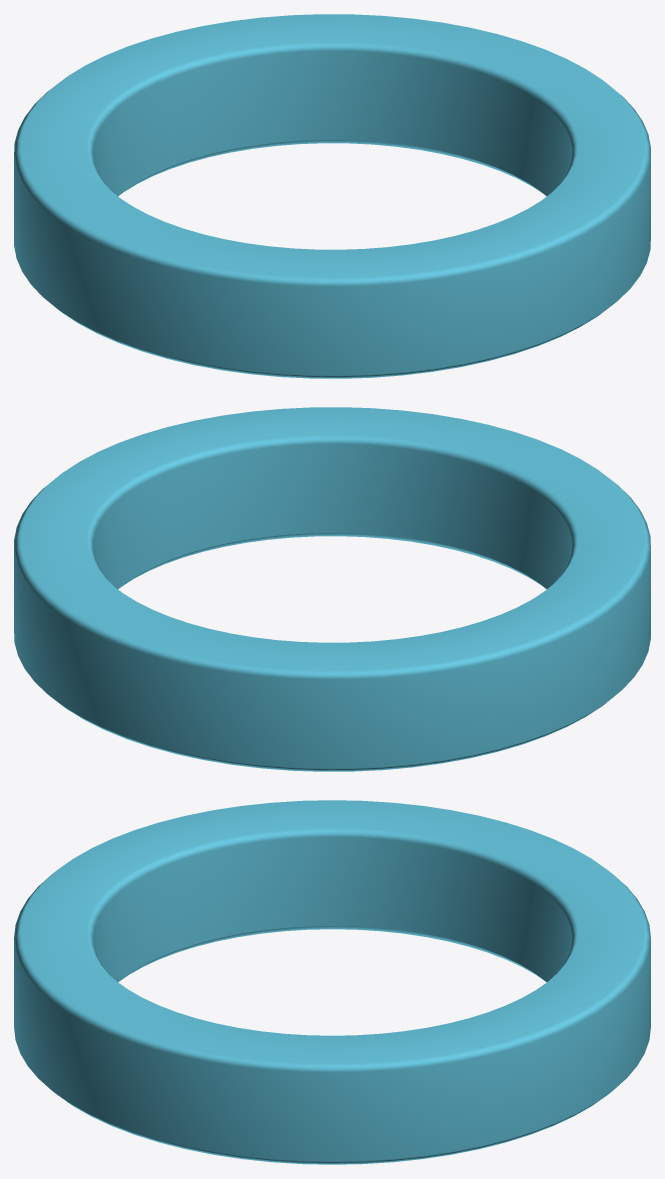
The picture shows the model from 3 angles, top to bottom: view 1: azimuth 30°, elevation 25°; view 2: azimuth 150°, elevation 25°; view 3: azimuth 270°, elevation 25°; orthographic projection.
Parts seen in each view (by area): view 1: seal_body; view 2: seal_body; view 3: seal_body.
Part boxes in pixels (bbox=[...]): seal_body: bbox=[14, 14, 650, 378]; seal_body: bbox=[14, 407, 650, 771]; seal_body: bbox=[14, 800, 650, 1164].
Size of the model in its own units: 0.04 by 0.007 by 0.04.
